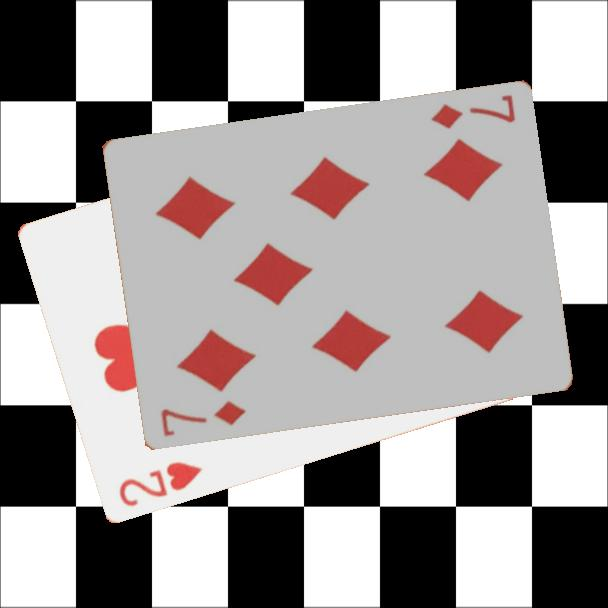d07: (157, 398, 248, 440), (427, 92, 518, 132)
h02: (115, 457, 206, 509)
